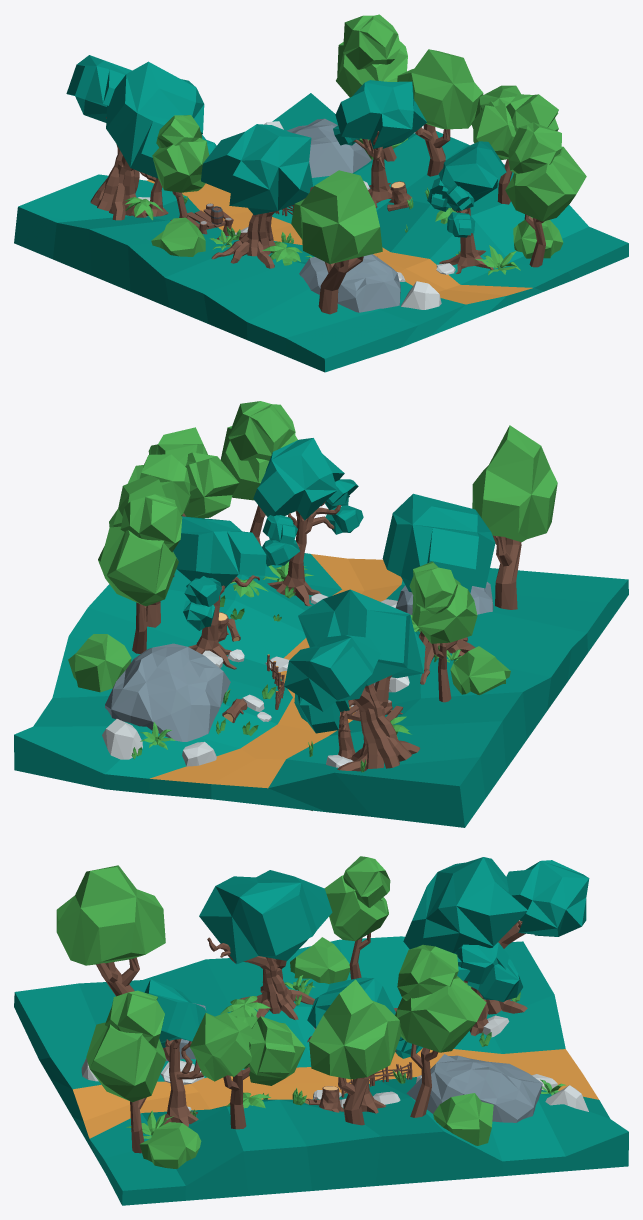
The model's file is Forest_Green.fbx.
3 renders of one model, top to bottom at view 1: azimuth 30°, elevation 25°; view 2: azimuth 150°, elevation 25°; view 3: azimuth 270°, elevation 25°, orthographic. The views are drawn at different scales.
Parts seen in each view (by area): view 1: group2009401224, group1489245576, group403363102, group547813215, group313951583, group1045676722, group1890178627, group2035836735, group1573540807, group506122935, group561706230, group599290752 (+14 smaller); view 2: group2009401224, group403363102, group1922369548, group1489245576, group2035836735, group547813215, group1573540807, group624080166, group313951583, group599290752, group506122935, group1890178627 (+19 smaller); view 3: group2009401224, group403363102, group1489245576, group2035836735, group547813215, group1045676722, group1573540807, group313951583, group1922369548, group624080166, group506122935, group1158573957 (+11 smaller).
Boxes of the visible parts, <box> form: group2009401224: <box>14,93,628,372</box>; group1489245576: <box>201,124,313,214</box>; group403363102: <box>291,170,382,314</box>; group547813215: <box>106,61,204,178</box>; group313951583: <box>505,122,586,267</box>; group1045676722: <box>397,49,483,176</box>; group1890178627: <box>335,80,426,148</box>; group2035836735: <box>336,14,407,161</box>; group1573540807: <box>471,85,558,204</box>; group506122935: <box>152,115,209,218</box>; group561706230: <box>299,254,400,312</box>; group599290752: <box>438,141,506,201</box>; group2009401224: <box>14,546,628,827</box>; group403363102: <box>472,425,557,609</box>; group1922369548: <box>105,643,230,741</box>; group1489245576: <box>382,493,495,593</box>; group2035836735: <box>98,494,182,653</box>; group547813215: <box>298,589,425,685</box>; group1573540807: <box>128,427,238,518</box>; group624080166: <box>284,635,380,711</box>; group313951583: <box>220,401,297,545</box>; group599290752: <box>253,438,344,520</box>; group506122935: <box>409,561,477,702</box>; group1890178627: <box>173,516,266,588</box>; group2009401224: <box>14,936,628,1205</box>; group403363102: <box>56,865,165,996</box>; group1489245576: <box>199,870,332,963</box>; group2035836735: <box>395,944,486,1117</box>; group547813215: <box>403,857,527,953</box>; group1045676722: <box>309,979,401,1125</box>; group1573540807: <box>190,1006,305,1129</box>; group313951583: <box>86,990,165,1153</box>; group1922369548: <box>406,1054,542,1122</box>; group624080166: <box>506,860,589,936</box>; group506122935: <box>324,856,390,979</box>; group1158573957: <box>433,1093,493,1145</box>.
Size of the model in its own units: 140 by 58.1 by 152.
